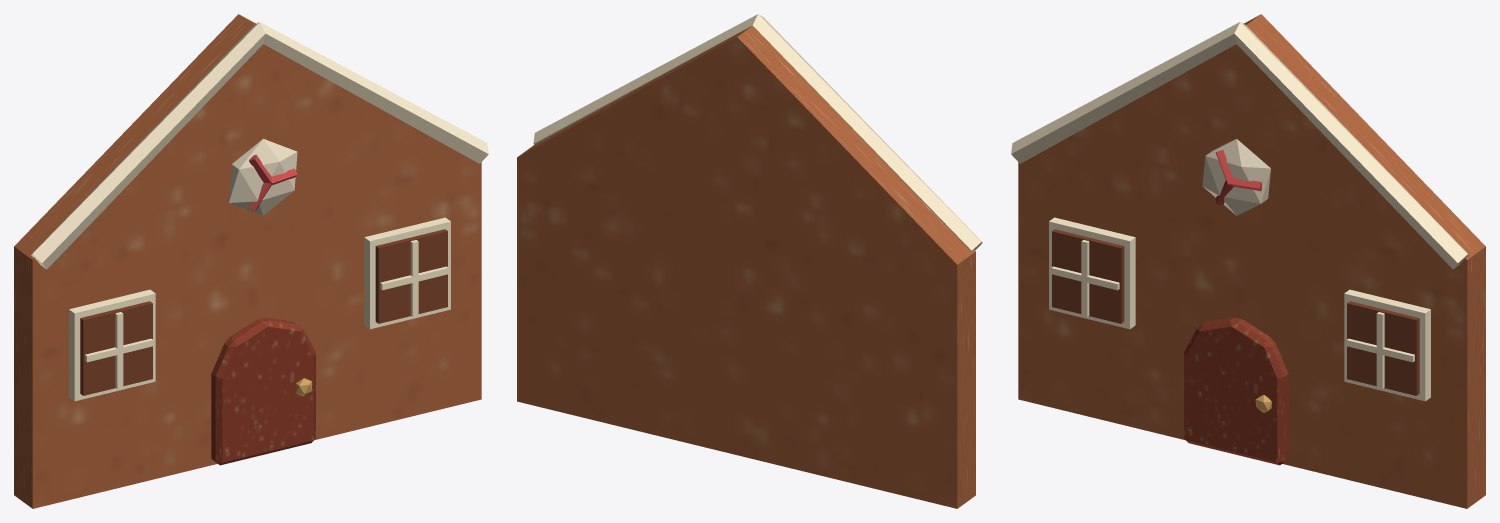
Rendered from gingerbread_house_piece_front.glb.
3 views of the same model, side by side, from view 1: azimuth 30°, elevation 25°; view 2: azimuth 150°, elevation 25°; view 3: azimuth 330°, elevation 25° (orthographic).
Parts seen in each view (by area): view 1: front; view 2: front; view 3: front.
Boxes of the visible parts, x1,y1,x2,y2 form: front: [14, 14, 488, 508]; front: [517, 14, 982, 508]; front: [1011, 14, 1485, 508].
Size of the model in its own units: 0.3084 by 0.281 by 0.0404.
7 materials, 2 textured.
